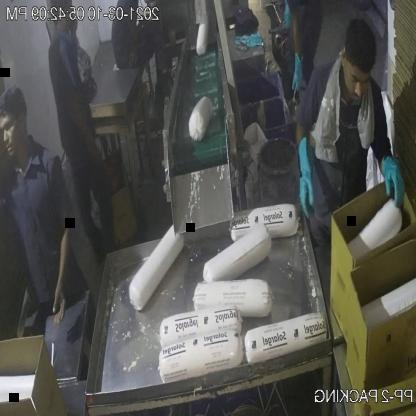glove: (290, 127, 320, 233), (377, 147, 410, 213), (289, 44, 308, 100)
no_glove: (66, 72, 104, 182), (46, 210, 76, 342)
